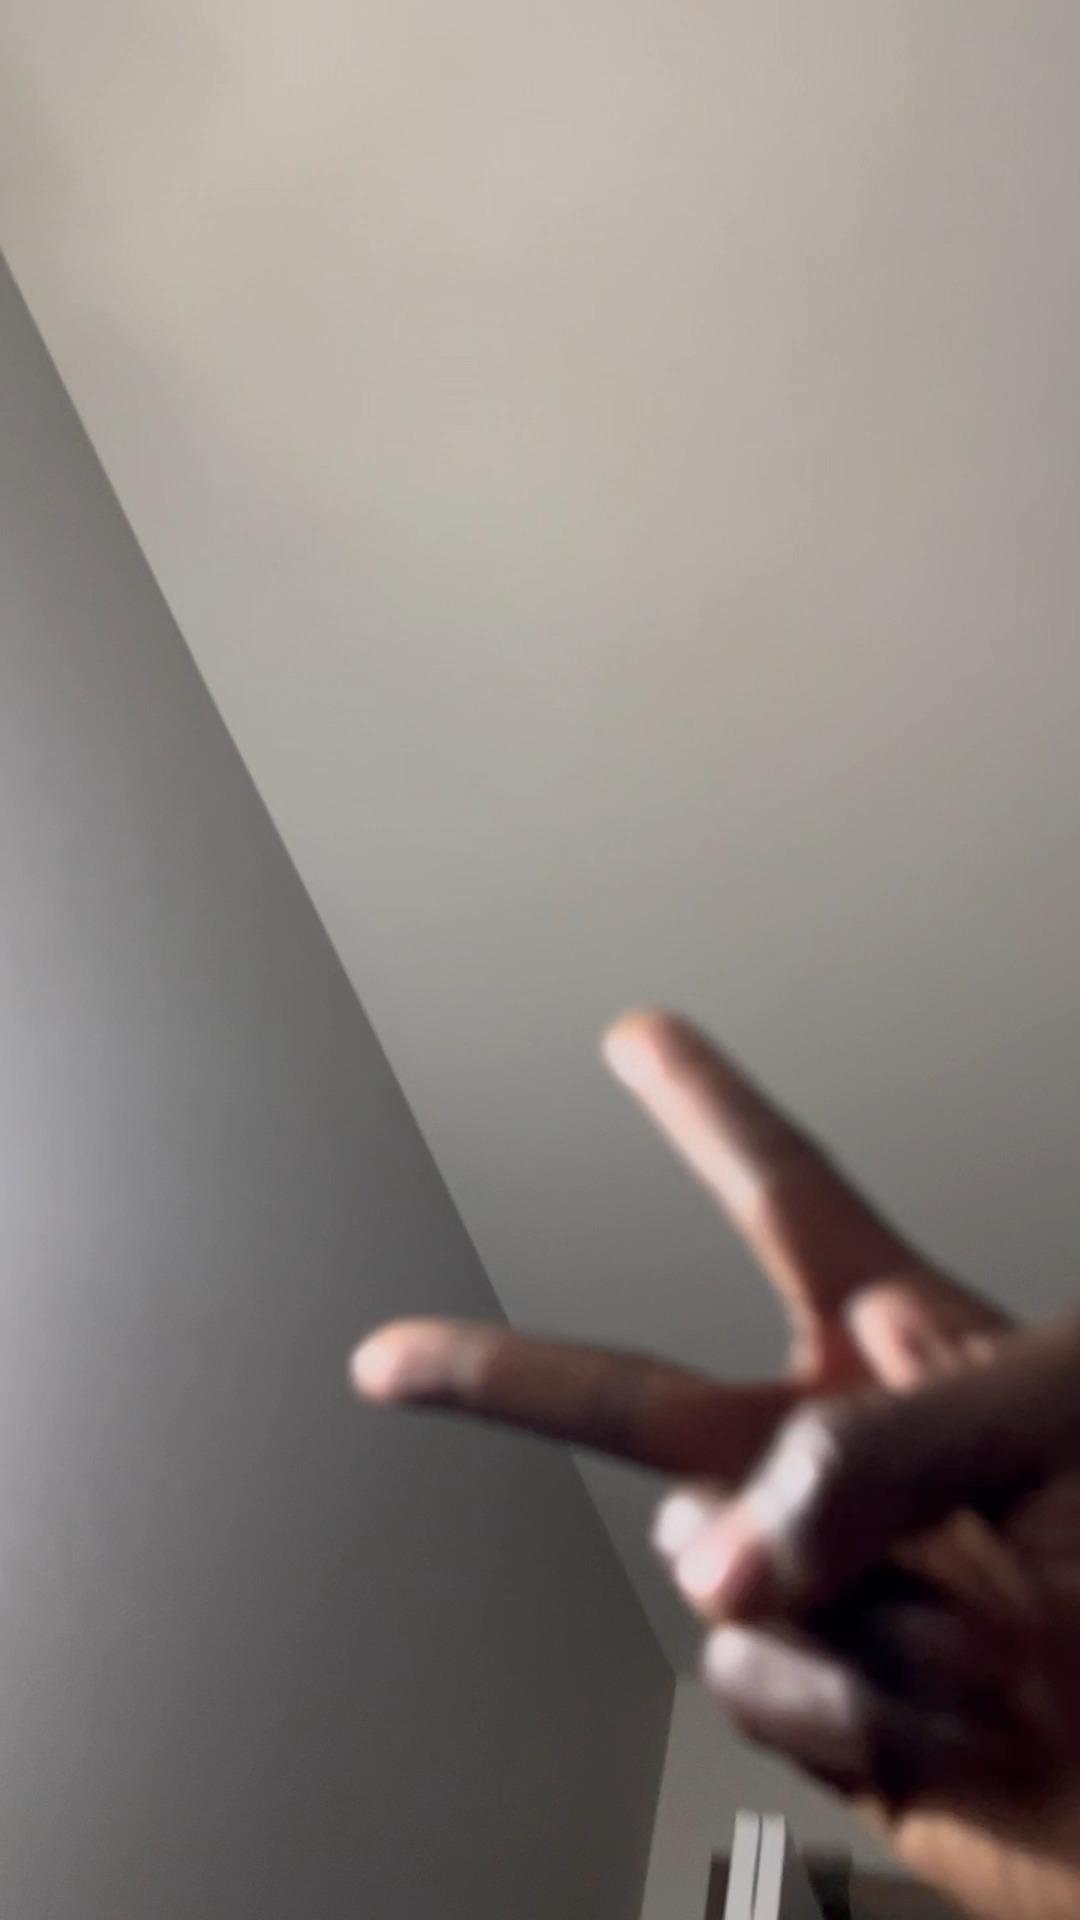Scissors: (347, 1004, 1080, 1920)
